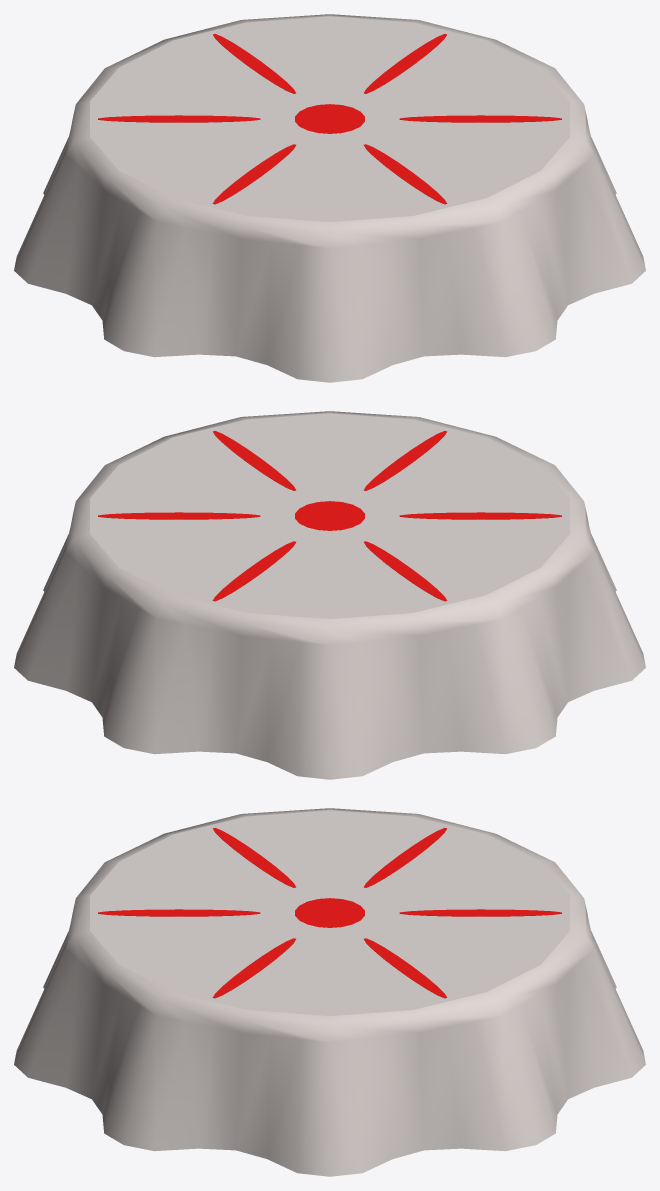
The model's file is ban 4_07.FBX.
3 renders of one model, top to bottom at view 1: azimuth 30°, elevation 25°; view 2: azimuth 150°, elevation 25°; view 3: azimuth 270°, elevation 25°, orthographic.
Parts seen in each view (by area): view 1: Object1262; view 2: Object1262; view 3: Object1262.
Part boxes in pixels (x1,y1,x2,y2): Object1262: (14,14,645,382); Object1262: (14,411,645,779); Object1262: (14,808,645,1176).
Bounding box in the file's own units: 5.08 × 1.15 × 5.13.
